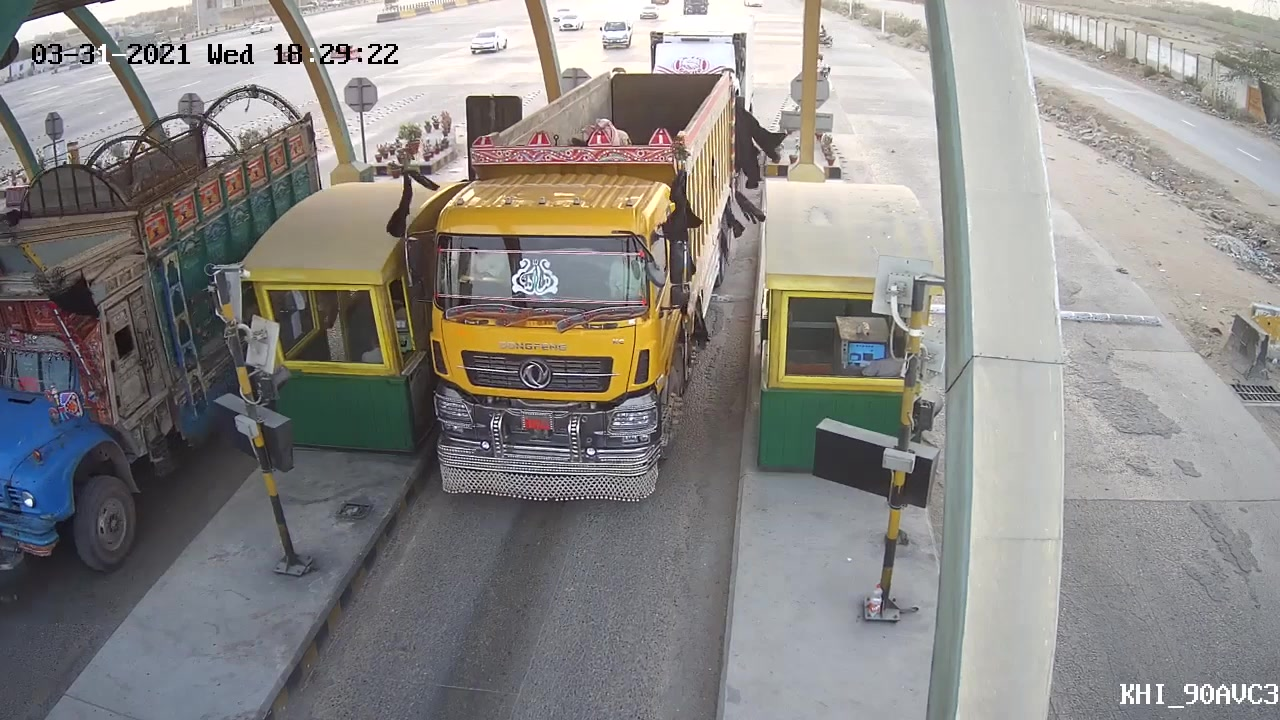F5: (402, 70, 749, 502)
